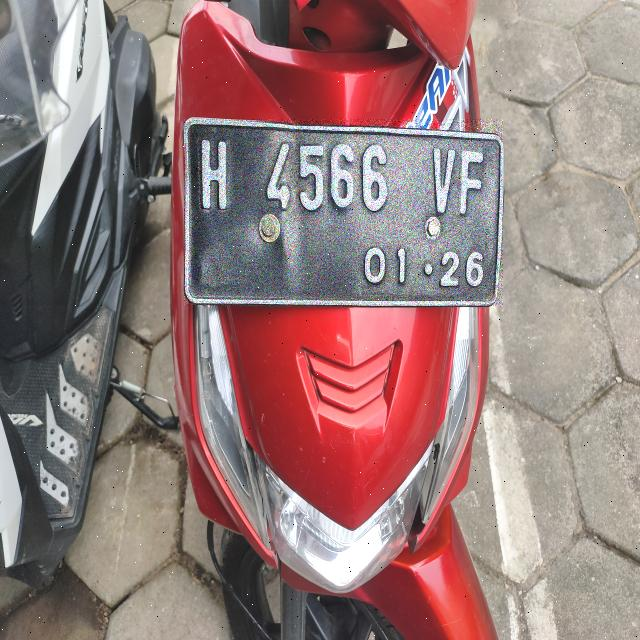plate: (185, 119, 502, 305)
